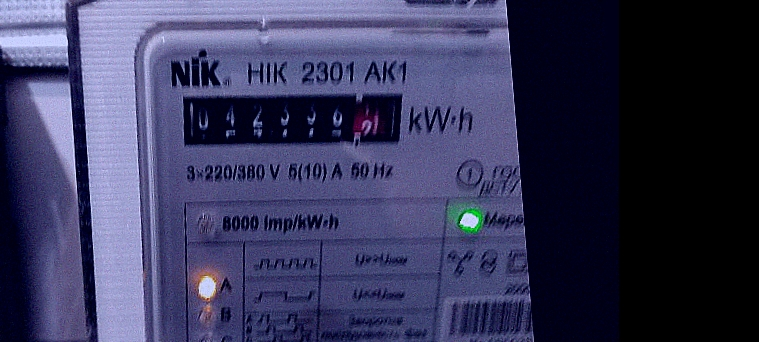0: (195, 102, 210, 132)
2: (247, 99, 267, 127)
3: (274, 97, 292, 127), (303, 96, 319, 125)
4: (221, 100, 239, 129)
6: (328, 100, 345, 128)
screen: (169, 68, 415, 169)
